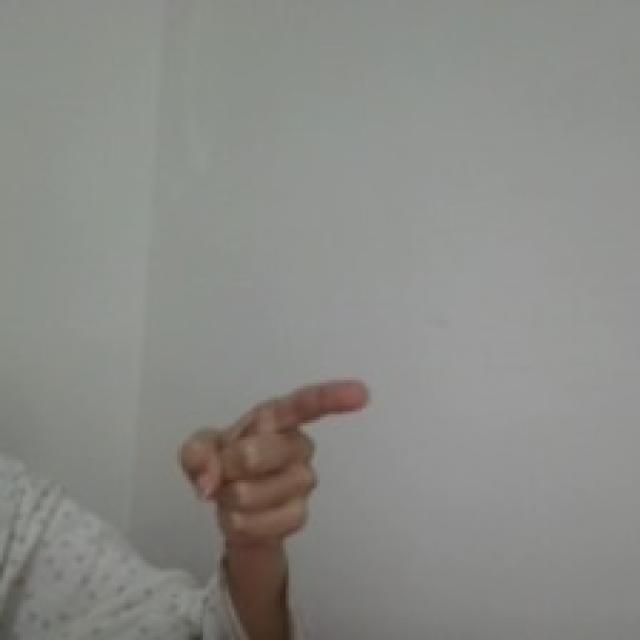you: (173, 372, 372, 554)
